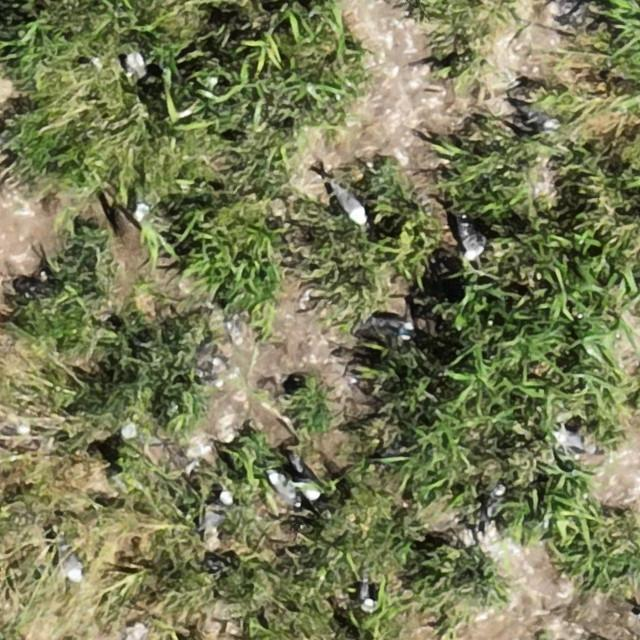umineko: (511, 98, 562, 132), (554, 429, 603, 458), (293, 456, 321, 501), (334, 187, 366, 224), (206, 494, 233, 533), (58, 543, 84, 583), (121, 426, 161, 451), (360, 564, 378, 615), (268, 473, 296, 502), (460, 223, 482, 258), (374, 316, 411, 336), (133, 199, 155, 227)
